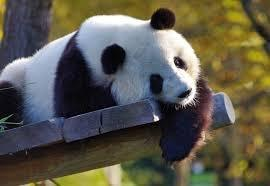bear: (0, 8, 212, 164)
